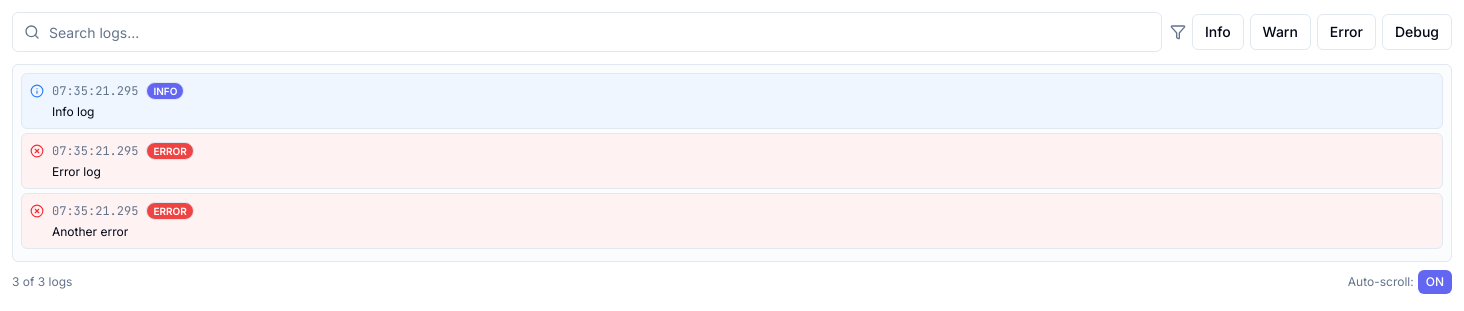
Scenario: LogViewer › should filter logs by level
Note: Click error filter
Click the button "error".
click(1346, 32)  # box [1317,14,1376,50]
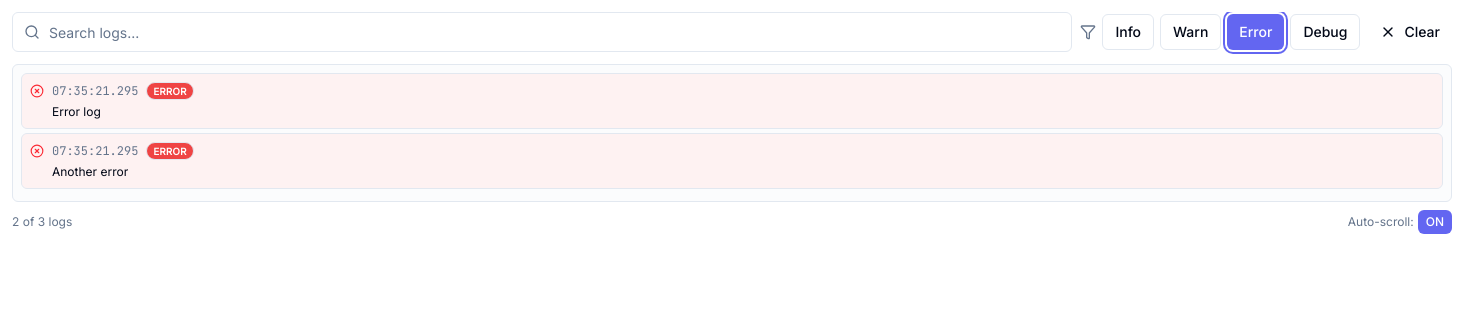
Expected: the text "Error log" is shown, [52,104,101,119]
Expected: the text "Info log" is gone
Expected: the text "2 of 3 logs" is shown, [12,214,72,230]
